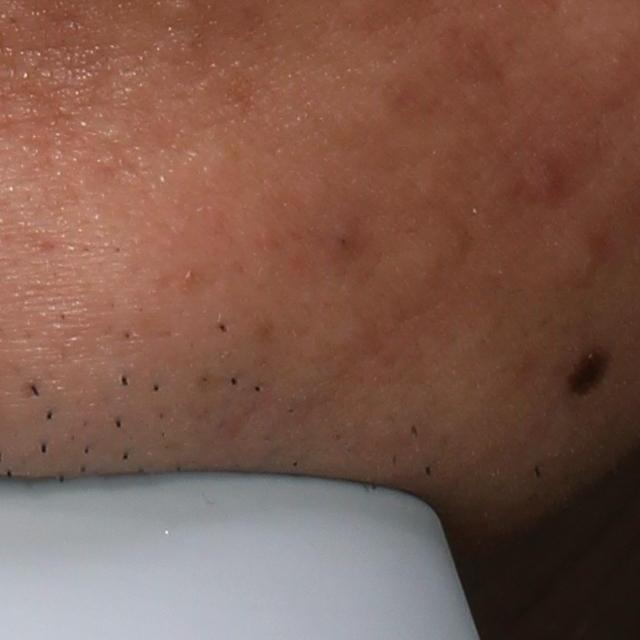nevus: (567, 344, 613, 396)
